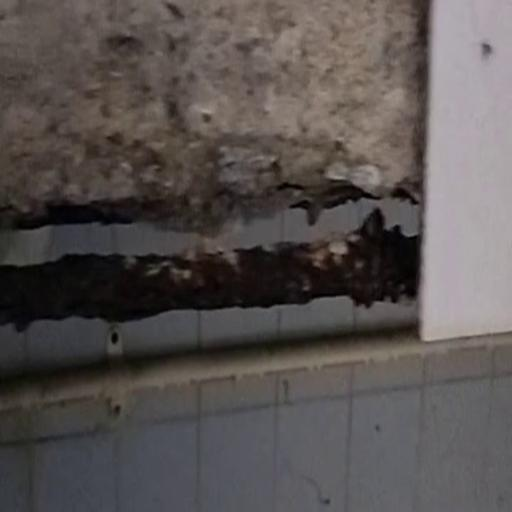spalling: (0, 0, 447, 316)
